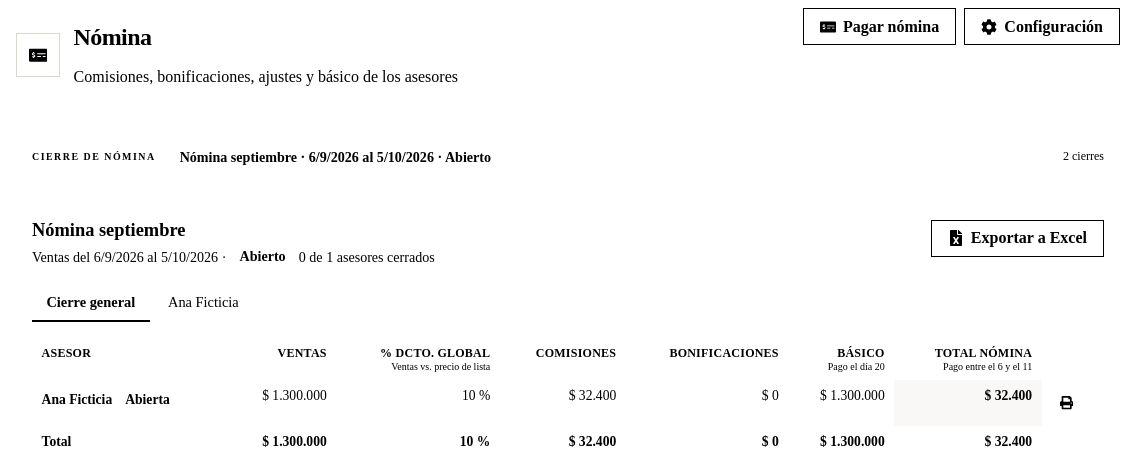
Test case: Nómina › elige el cierre en una lista desplegable con su período y estado
Select "Agosto 26 · 6/8/2026 al 5/9/2026 · Cerrado" in the dropdown labelled "Cierre de nómina" at coordinates (428, 157), box [168,138,688,176]
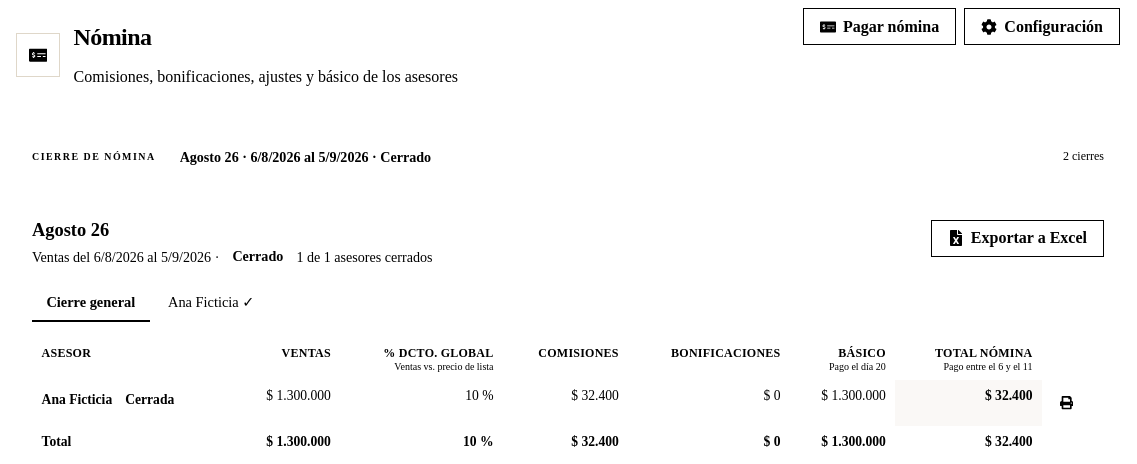
Expected: the heading "Agosto 26" is shown, [32,220,109,240]
